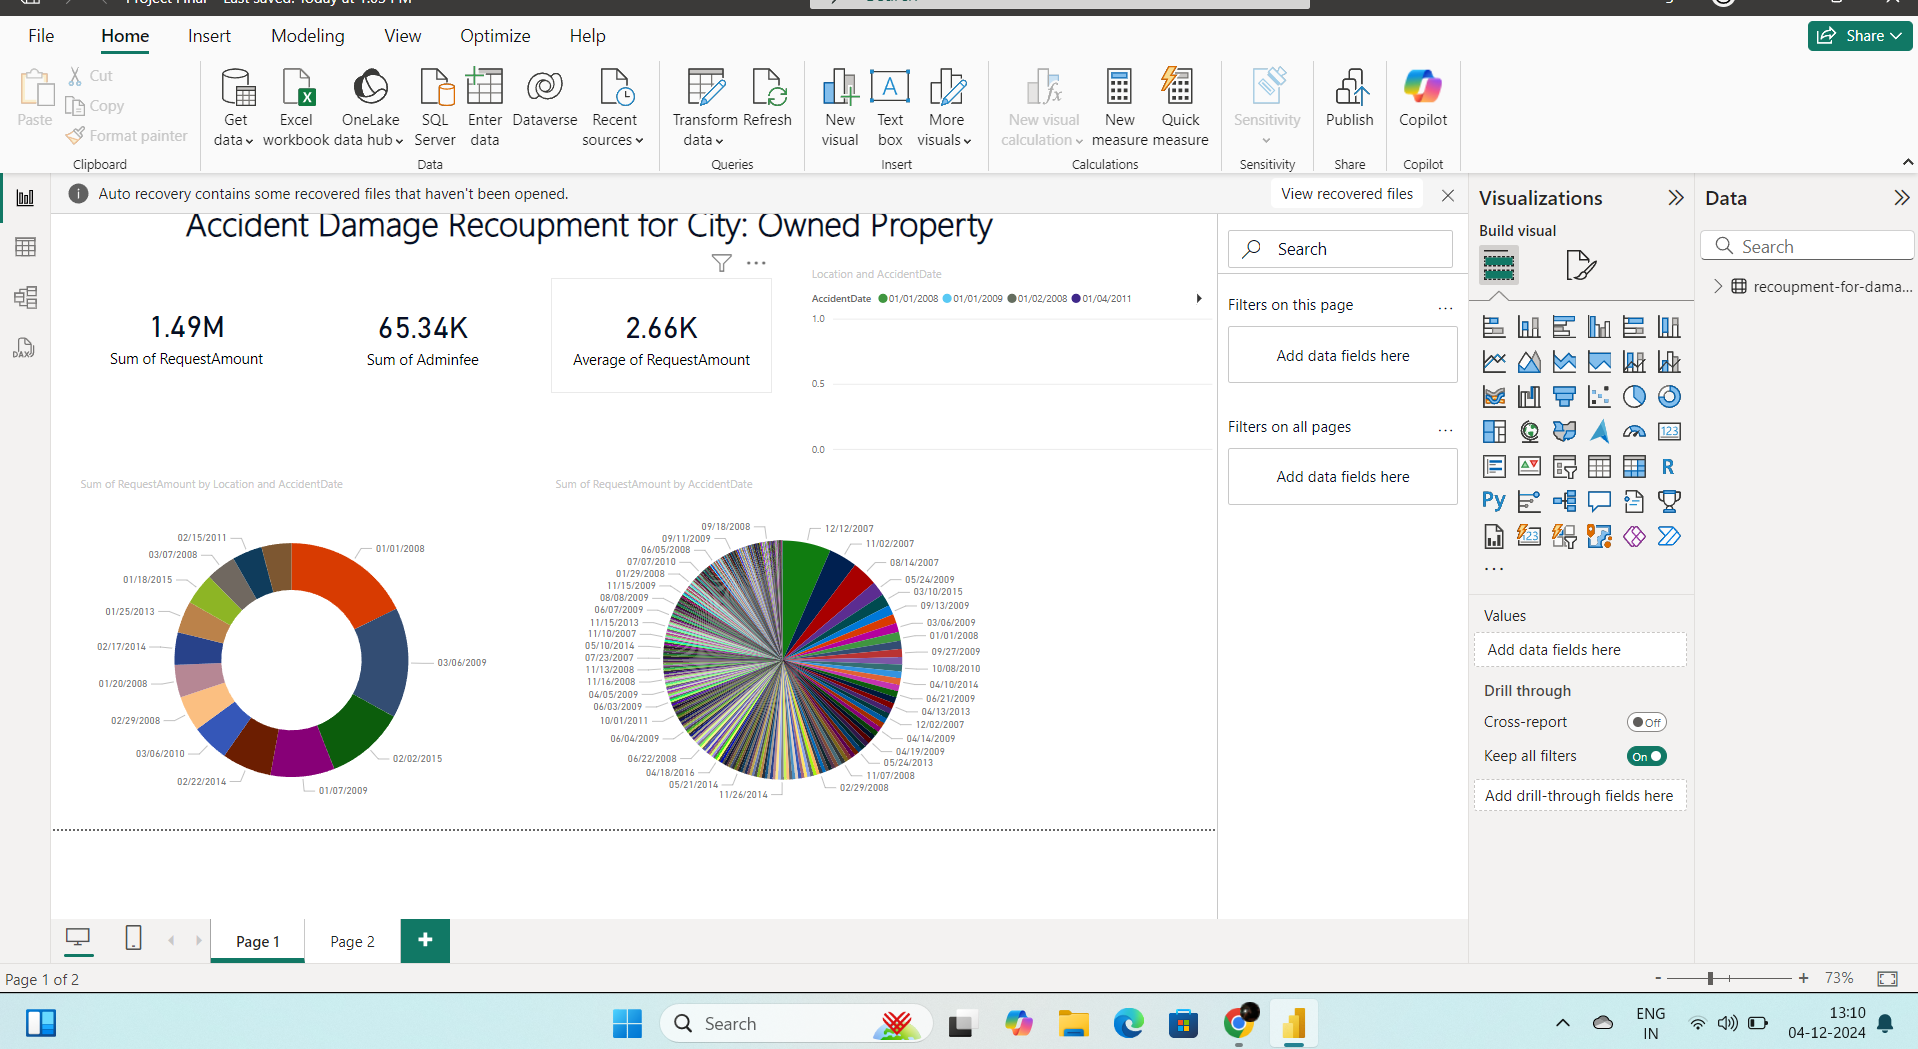

The dashboard page shown, as its layout file describes it:
{"tool":"powerbi","page":{"name":"Page 1","canvas":[1280,720],"ordinal":0},"visuals":[{"type":"card","fields":{"Values":["Sum(recoupment-for-damaged-city-owned-property-1.RequestAmount)"]},"box":[27.4,112.5,242.9,129],"z":0},{"type":"card","fields":{"Values":["Sum(recoupment-for-damaged-city-owned-property-1.Adminfee)"]},"box":[286.8,115.3,242.9,126.2],"z":1000},{"type":"textbox","box":[27.4,24.7,1126.6,61.7],"z":2000},{"type":"card","fields":{"Values":["Avg(recoupment-for-damaged-city-owned-property-1.RequestAmount)"]},"box":[548.9,115.3,242.9,126.2],"z":3000},{"type":"donutChart","fields":{"Category":["recoupment-for-damaged-city-owned-property-1.Location"],"Y":["Sum(recoupment-for-damaged-city-owned-property-1.RequestAmount)"],"Series":["recoupment-for-damaged-city-owned-property-1.AccidentDate"]},"box":[27.4,333.4,473.4,387],"z":4000},{"type":"pieChart","fields":{"Category":["recoupment-for-damaged-city-owned-property-1.AccidentDate"],"Y":["Sum(recoupment-for-damaged-city-owned-property-1.RequestAmount)"]},"box":[548.9,333.4,509.1,387],"z":5000},{"type":"clusteredColumnChart","fields":{"Category":["recoupment-for-damaged-city-owned-property-1.Location"],"Series":["recoupment-for-damaged-city-owned-property-1.AccidentDate"]},"box":[830.2,102.9,450.1,212.7],"z":6000}]}

Visuals, with their boxes on the page's 1280x720 design canvas (x1, y1, x2, y2). These are canvas units, not pixel positions in the 1918x1049 screenshot, which may show the page scaled, cropped or inside an application window:
card - Sum(recoupment-for-damaged-city-owned-property-1.RequestAmount): {"x1": 27, "y1": 112, "x2": 270, "y2": 242}
card - Sum(recoupment-for-damaged-city-owned-property-1.Adminfee): {"x1": 287, "y1": 115, "x2": 530, "y2": 242}
textbox: {"x1": 27, "y1": 25, "x2": 1154, "y2": 86}
card - Avg(recoupment-for-damaged-city-owned-property-1.RequestAmount): {"x1": 549, "y1": 115, "x2": 792, "y2": 242}
donutChart - recoupment-for-damaged-city-owned-property-1.Location x Sum(recoupment-for-damaged-city-owned-property-1.RequestAmount): {"x1": 27, "y1": 333, "x2": 501, "y2": 720}
pieChart - recoupment-for-damaged-city-owned-property-1.AccidentDate x Sum(recoupment-for-damaged-city-owned-property-1.RequestAmount): {"x1": 549, "y1": 333, "x2": 1058, "y2": 720}
clusteredColumnChart - recoupment-for-damaged-city-owned-property-1.Location x recoupment-for-damaged-city-owned-property-1.AccidentDate: {"x1": 830, "y1": 103, "x2": 1280, "y2": 316}
